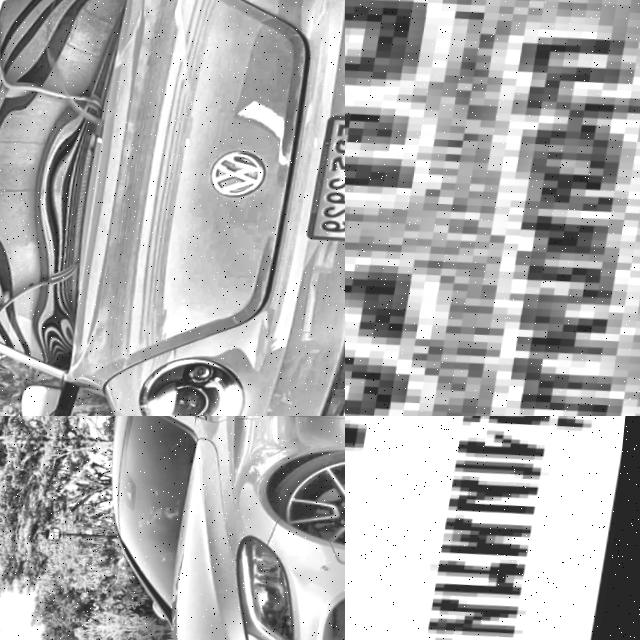license-plate: (345, 0, 640, 416), (345, 416, 640, 640), (313, 114, 345, 247)
